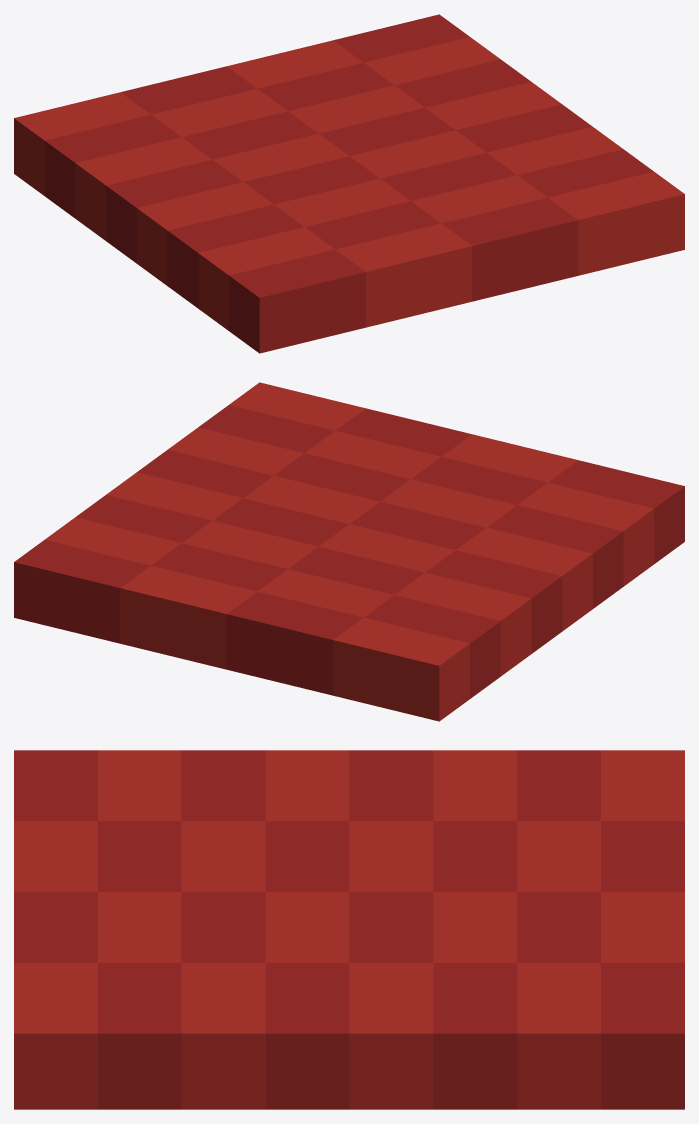
Rendered from carpet_red_model.glb.
3 renders of one model, top to bottom at view 1: azimuth 30°, elevation 25°; view 2: azimuth 150°, elevation 25°; view 3: azimuth 270°, elevation 25°, orthographic. The views are drawn at different scales.
Visible parts, largest first — view 1: Untitled; view 2: Untitled; view 3: Untitled.
Part boxes in pixels (<box>): Untitled: <box>14,14,684,353</box>; Untitled: <box>14,382,684,721</box>; Untitled: <box>14,750,684,1109</box>.
Bounding box in the file's own units: 0.8 × 0.1 × 0.8.
1 material, 1 textured.
